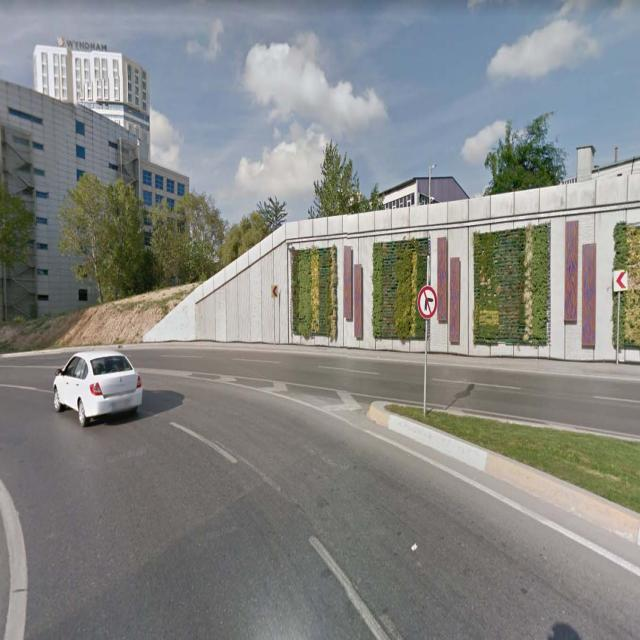sagadonulmez: (418, 286, 437, 318)
